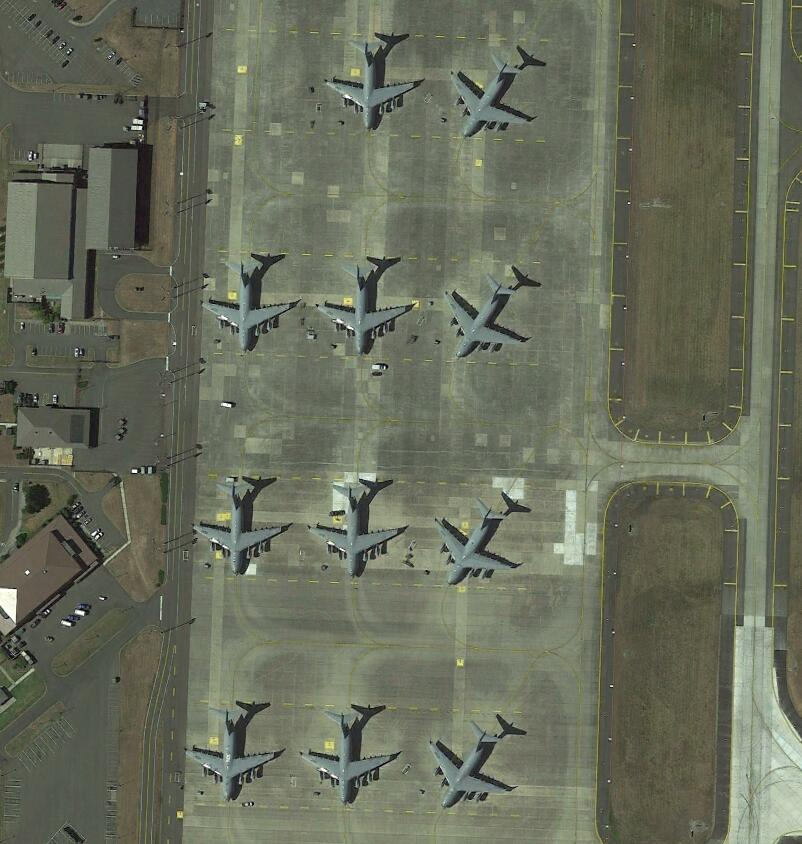A3: (183, 700, 281, 806), (303, 704, 400, 811), (200, 253, 297, 355), (315, 261, 414, 358), (194, 472, 285, 575), (328, 34, 420, 132), (310, 479, 401, 578), (428, 718, 520, 813), (432, 495, 518, 590), (449, 53, 534, 141), (440, 278, 528, 363)
